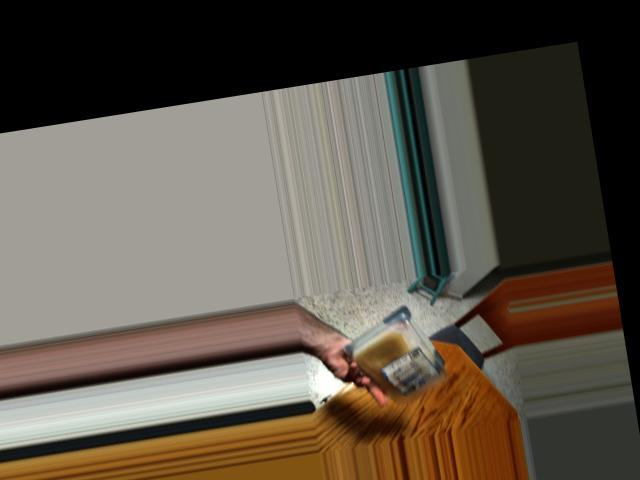cheese: (342, 306, 455, 400)
